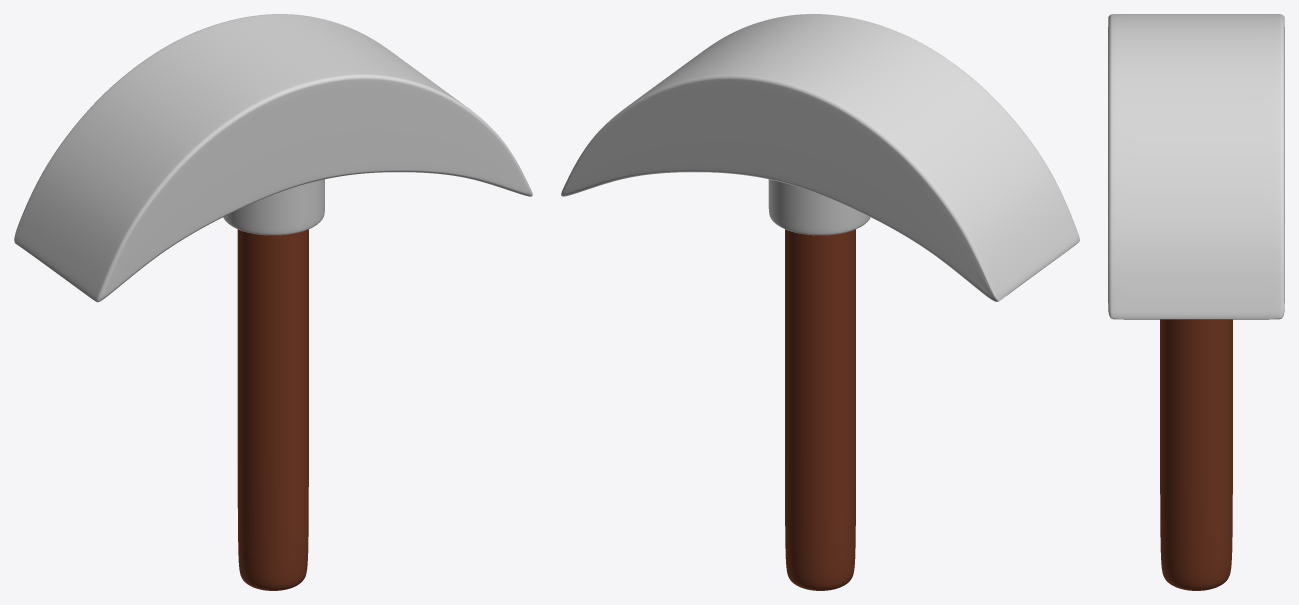
Rendered from axe.fbx.
3 views of the same model, side by side, from view 1: azimuth 30°, elevation 25°; view 2: azimuth 150°, elevation 25°; view 3: azimuth 270°, elevation 25° (orthographic). The views are drawn at different scales.
Parts seen in each view (by area): view 1: Cube.039; view 2: Cube.039; view 3: Cube.039.
Boxes of the visible parts, x1,y1,x2,y2 form: Cube.039: [14, 14, 532, 590]; Cube.039: [561, 14, 1079, 590]; Cube.039: [1108, 14, 1284, 590].
Size of the model in its own units: 164 by 191 by 56.21.
